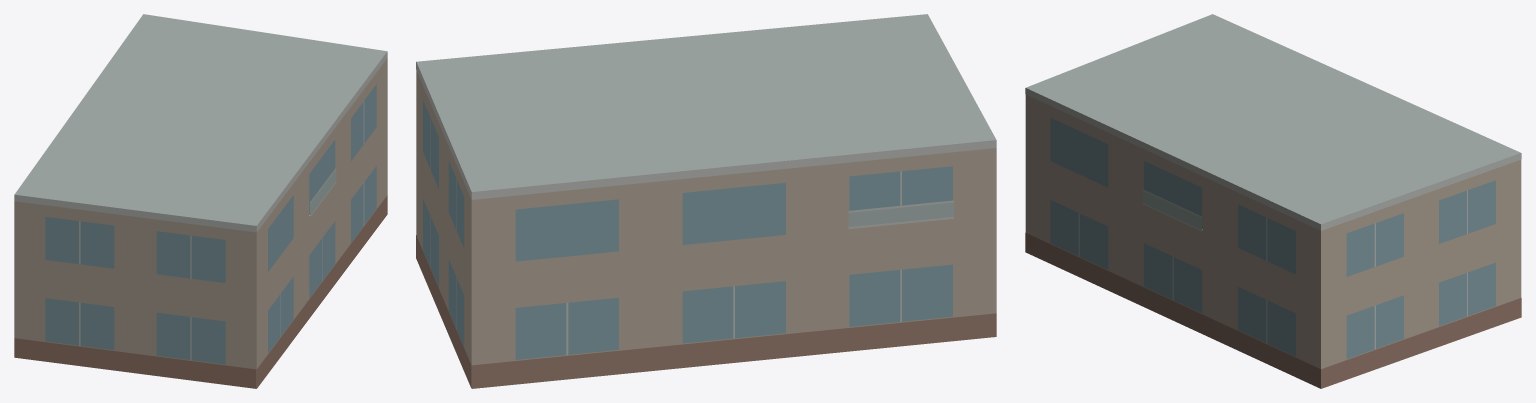
File: survey-upis-32546717.glb
The picture shows the model from 3 angles, left to right: view 1: azimuth 30°, elevation 25°; view 2: azimuth 150°, elevation 25°; view 3: azimuth 270°, elevation 25°; orthographic projection. The views are drawn at different scales.
Parts seen in each view (by area): view 1: survey-upis-32546717.tmp; view 2: survey-upis-32546717.tmp; view 3: survey-upis-32546717.tmp.
Part boxes in pixels (x1,y1,x2,y2): survey-upis-32546717.tmp: [14, 14, 387, 388]; survey-upis-32546717.tmp: [416, 14, 996, 388]; survey-upis-32546717.tmp: [1025, 14, 1521, 388].
Bounding box in the file's own units: 16.73 × 6.1 × 16.67.
